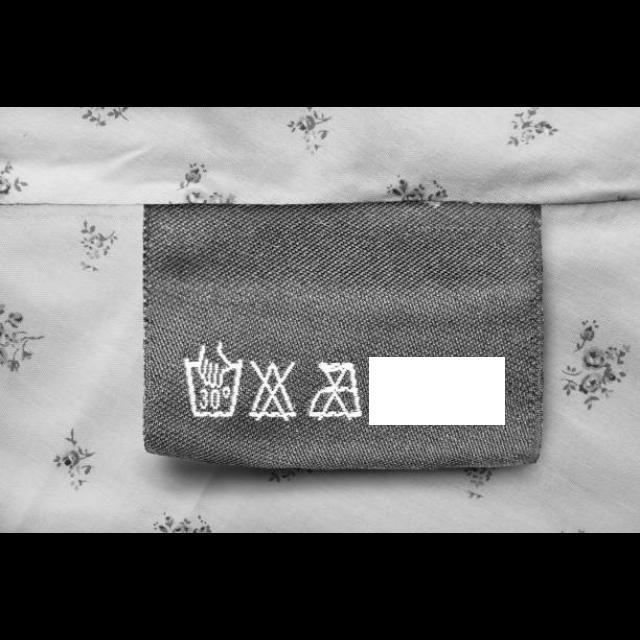30C: (180, 356, 247, 422)
DN_bleach: (245, 357, 302, 427)
DN_iron: (306, 359, 366, 423)
